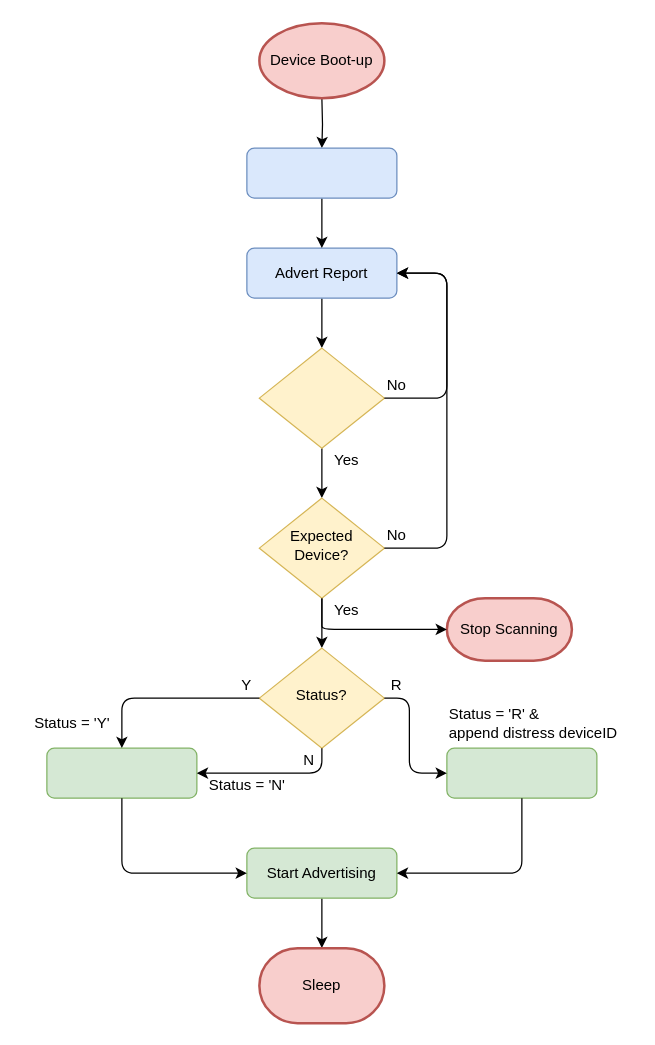
Some shapes in this 655 by 1045 pixel diagram are drawn without their labels. The shapes that lost their labels are listed below. From the top down, each one's centre as x and y in pixels, then its label:
At (321,172): "Start Scanning".
At (321,397): "Correct Channel?".
At (121,772): "Enable AdvSet1".
At (521,772): "Enable AdvSet2".
